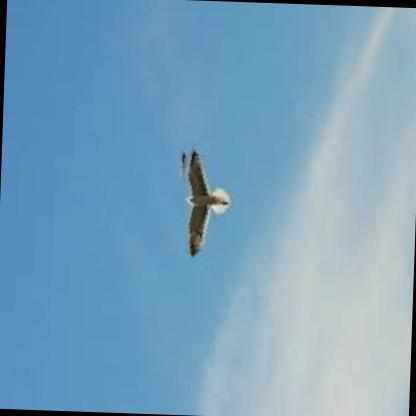bird: (166, 142, 242, 266)
